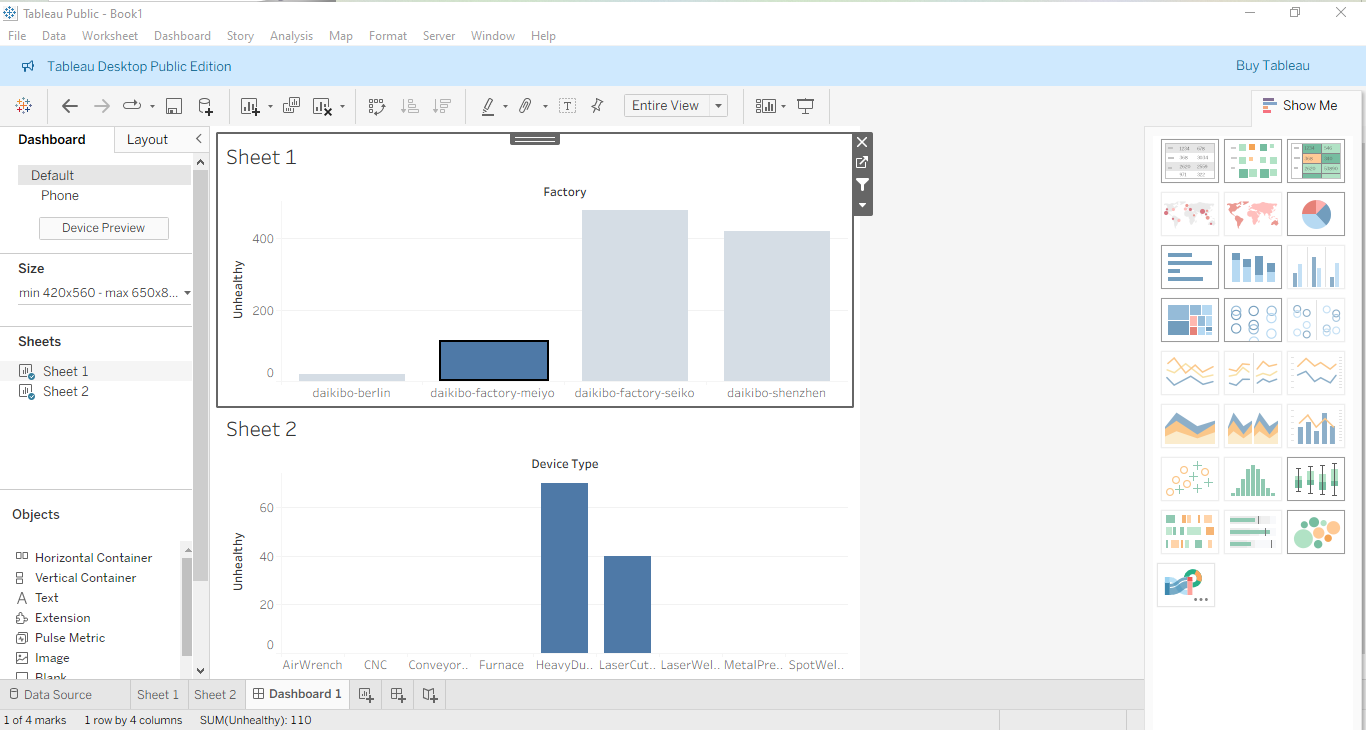

The page's visual inventory and layout, read from the dashboard file:
{"tool":"tableau","page":{"name":"Dashboard 1","canvas":[650,860],"ordinal":0},"visuals":[{"type":"worksheet","title":"Sheet 1","mark":"Automatic","rows":["Calculation_451204415767973888"],"cols":["factory"],"box":[8,12.3,634,417.7]},{"type":"worksheet","title":"Sheet 2","mark":"Automatic","rows":["Calculation_451204415767973888"],"cols":["deviceType"],"box":[8,430,634,417.7]}]}

Visuals, with their boxes on the page's 650x860 design canvas (x1, y1, x2, y2). These are canvas units, not pixel positions in the 1366x730 screenshot, which may show the page scaled, cropped or inside an application window:
"Sheet 1" worksheet: region(8, 12, 642, 430)
"Sheet 2" worksheet: region(8, 430, 642, 848)
